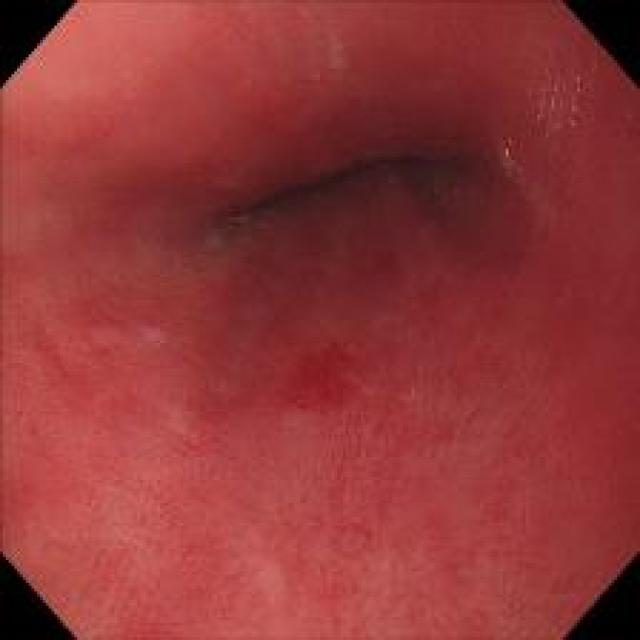blur: (25, 51, 596, 568)
bubbles: (221, 201, 255, 236), (138, 329, 166, 350)
color misalignment: (530, 62, 588, 140), (491, 120, 524, 178)
contrast: (269, 144, 498, 238)
